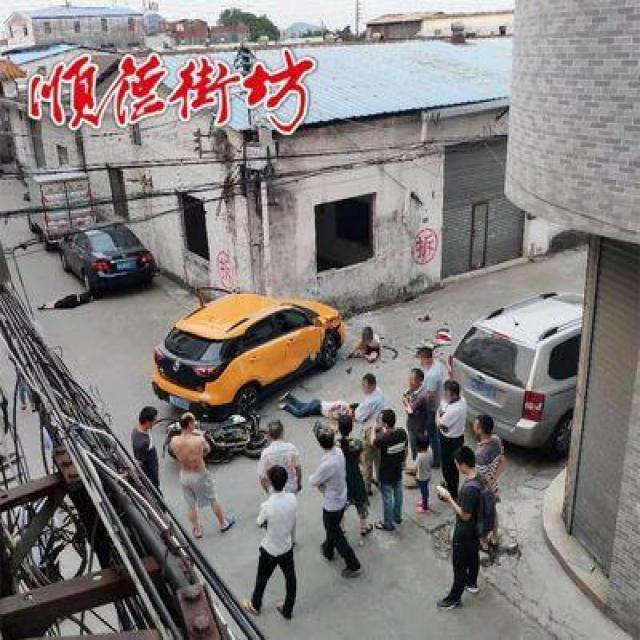fall: (344, 318, 382, 362)
nonfall: (250, 462, 300, 627), (166, 411, 227, 535), (439, 445, 483, 612), (311, 422, 355, 582), (469, 412, 508, 558), (369, 405, 405, 539), (404, 370, 436, 513), (257, 420, 309, 502), (335, 419, 369, 535), (433, 376, 467, 480), (131, 402, 168, 492)
